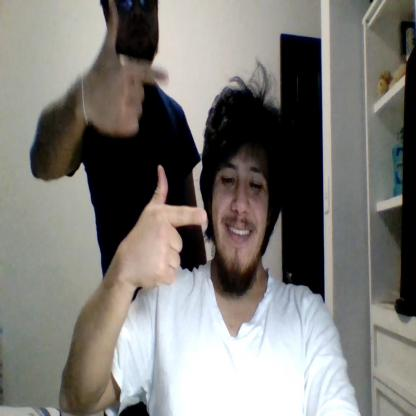G: (88, 0, 168, 134), (136, 165, 207, 288)
